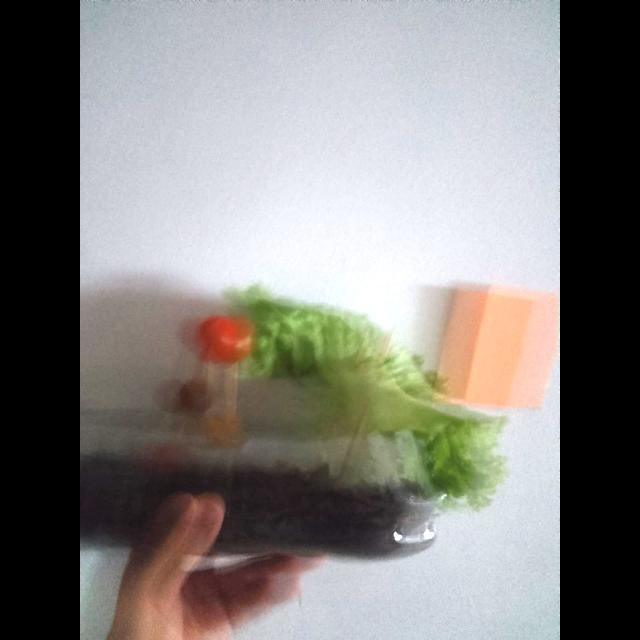card: (439, 287, 558, 408)
fully_grown: (196, 316, 254, 363)
